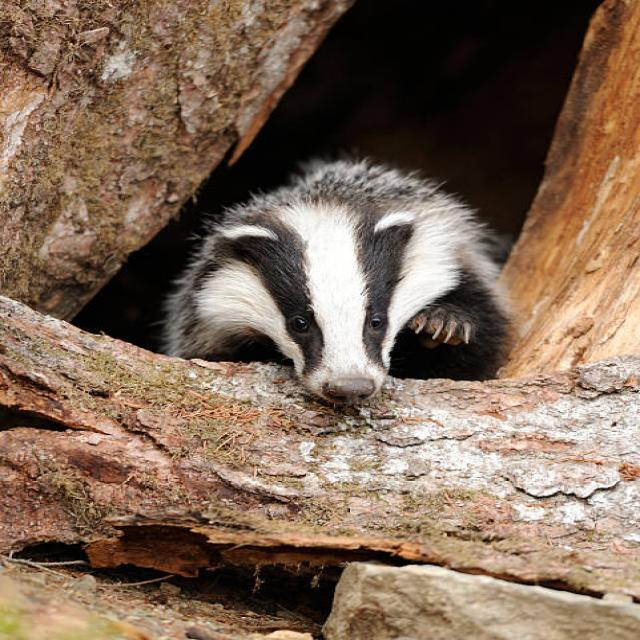Badger: (165, 166, 504, 415)
